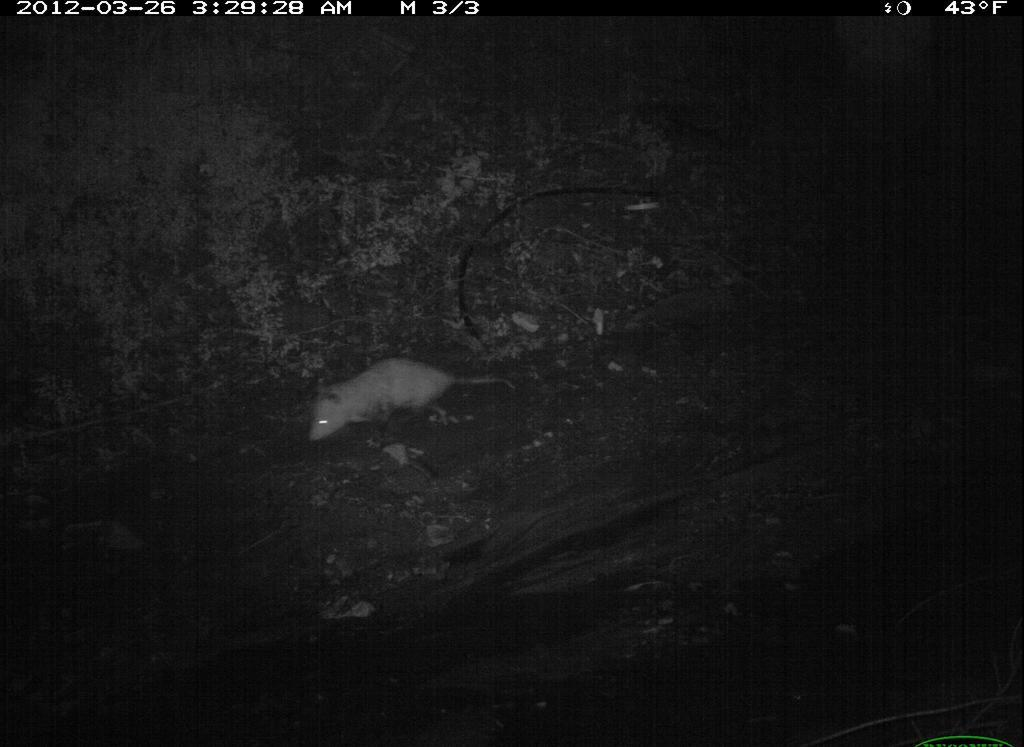opossum: (292, 341, 514, 452)
